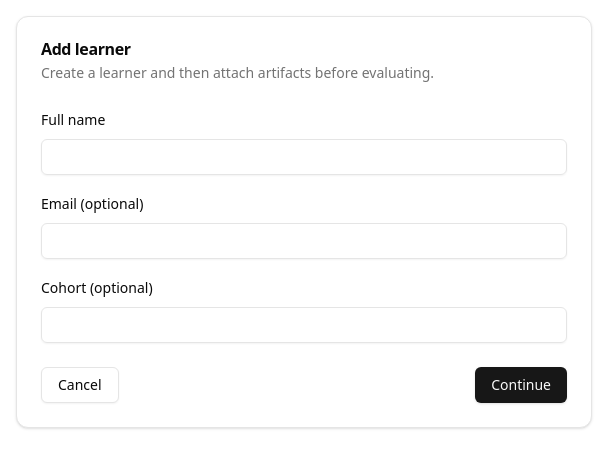
LearnerNewPage › blocks Phase A submit when full_name is empty
The width and height of the screenshot is (609, 470).
expect the field labelled "Full name" is shown: met, box [41,139,567,175]
What coordinates should you click on to do the following:
click the button with test id "phase-a-submit"
I would click on:
 (521, 385)
Its box is [475,367,567,403].
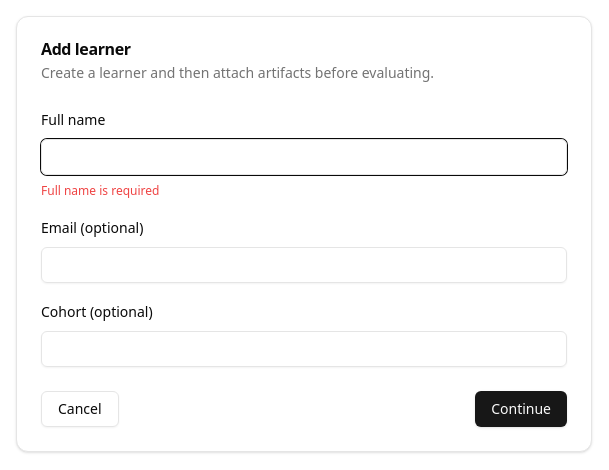
expect the text "Full name is required" is shown: met, box [41,182,159,199]
